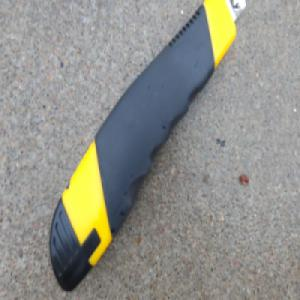Cutter: (50, 0, 249, 292)
